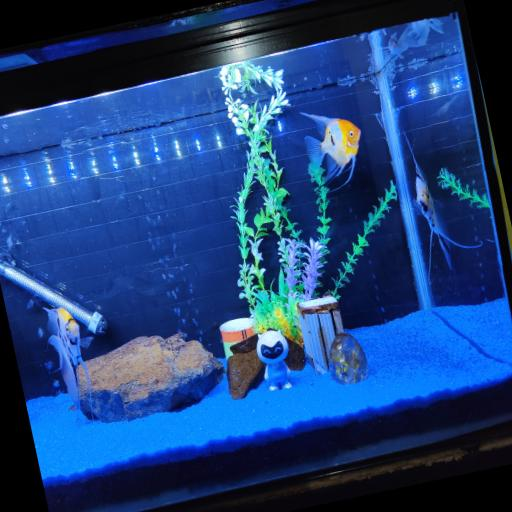Fish: (405, 136, 481, 276), (44, 308, 91, 415), (301, 113, 360, 185), (388, 19, 442, 57), (429, 93, 458, 118)
